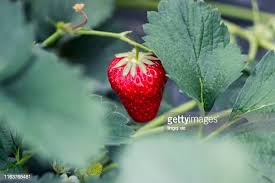ripe: (109, 44, 164, 127)
